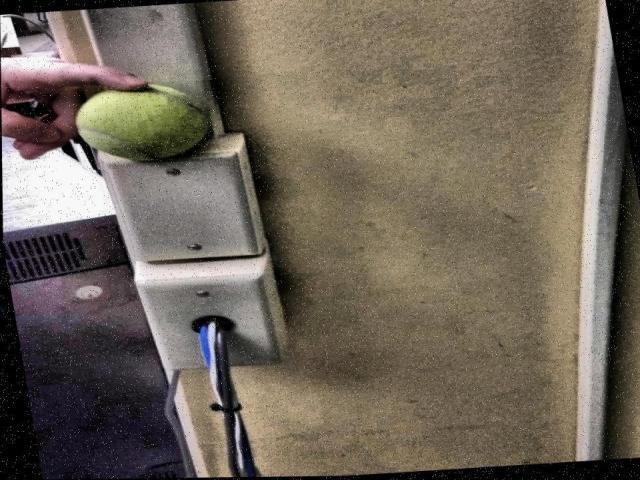tennis-ball: (76, 82, 210, 160)
